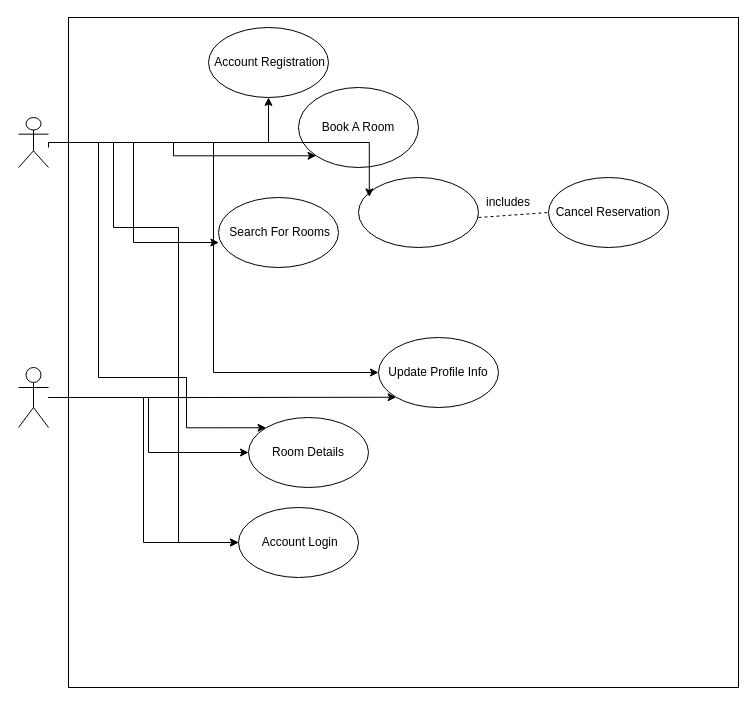
Some shapes in this 756 by 705 pixel diagram are drawn without their labels. Here are the shapes that lost their labels. From the top down, the centre of each, then its label:
At point 33,142: "Guest".
At point 418,212: "View Booking History".
At point 33,397: "Staff".
